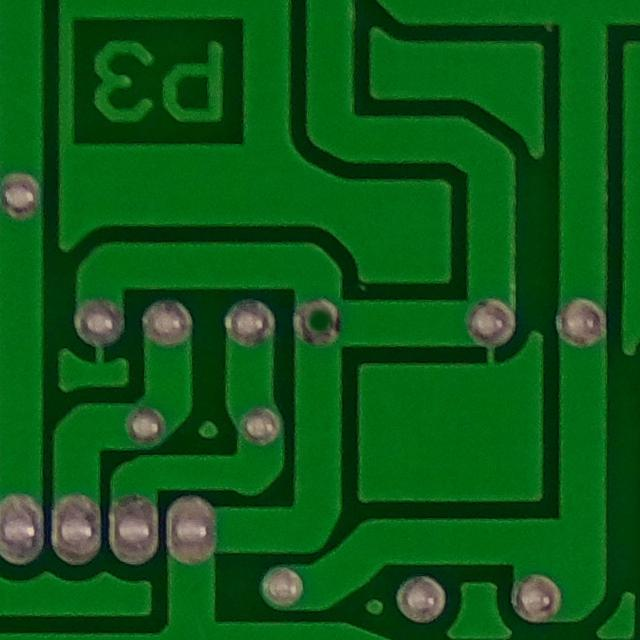missing_hole: (294, 291, 347, 349)
